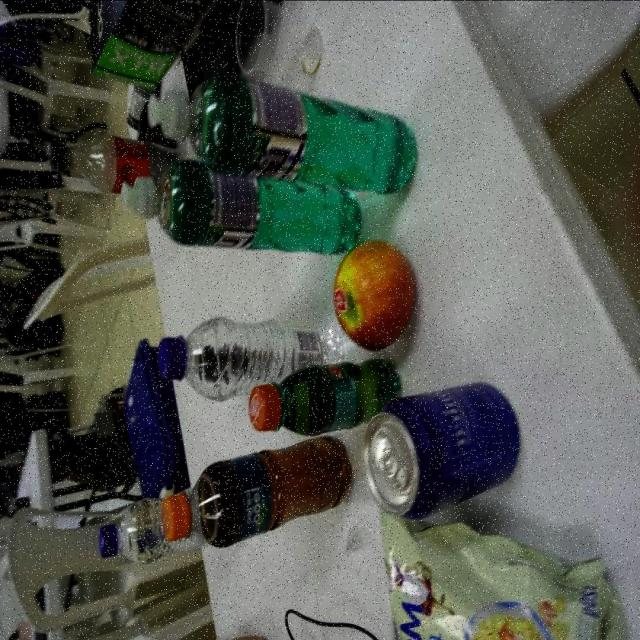Apple: (332, 242, 412, 354)
Cleaner: (149, 72, 415, 198), (121, 160, 366, 259)
CornFlakes: (375, 498, 631, 640)
Guarana: (247, 358, 401, 436)
IceTea: (163, 434, 350, 550)
Tonic: (365, 380, 522, 520)
Water: (158, 316, 328, 403), (102, 500, 206, 567)
